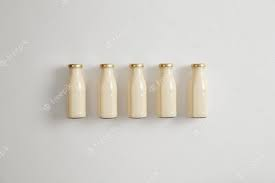milk: (94, 56, 123, 119), (62, 59, 91, 120), (120, 60, 152, 115), (153, 55, 178, 115), (186, 58, 210, 117)
